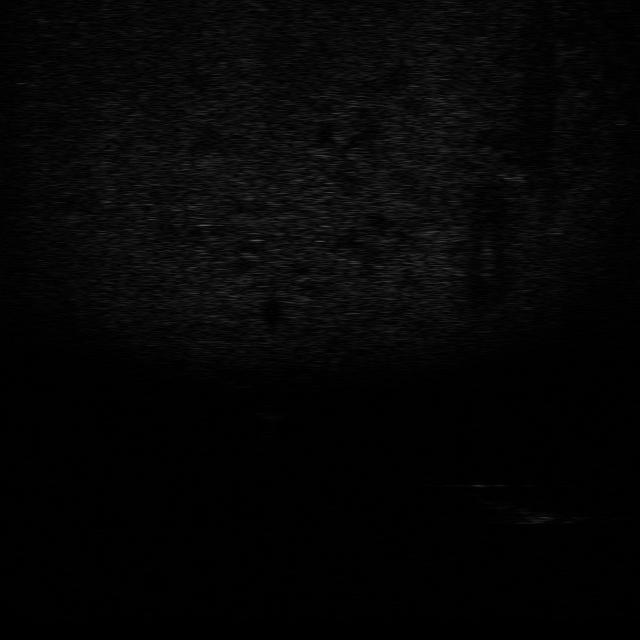ball: (250, 398, 289, 422)
metal bucket: (512, 504, 592, 528)
tyre: (466, 480, 515, 511)
